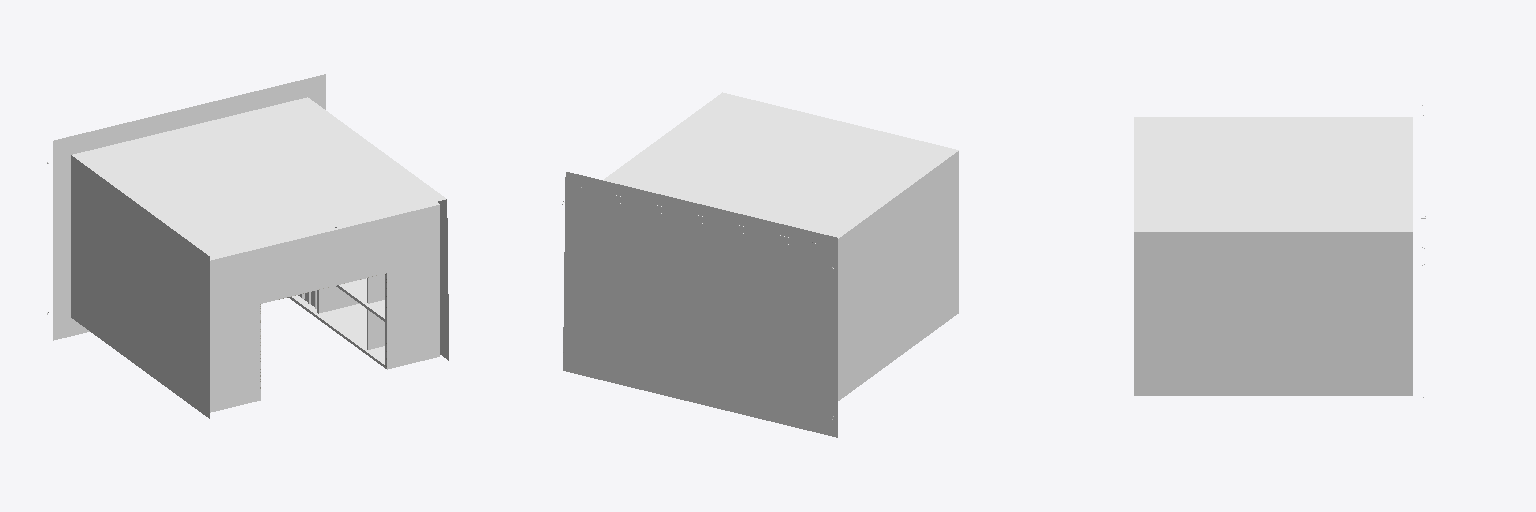
3 views of the same model, side by side, from view 1: azimuth 30°, elevation 25°; view 2: azimuth 150°, elevation 25°; view 3: azimuth 270°, elevation 25° (orthographic).
Parts seen in each view (by area): view 1: Object_316, Object_318, Object_167, Object_107, Object_319, Object_325, Object_166, Object_106, Object_208, Object_4, Object_303, Object_148 (+4 smaller); view 2: Object_315, Object_316, Object_318, Object_323, Object_319, Object_325, Object_321; view 3: Object_317, Object_316.
Part boxes in pixels (x1,y1,x2,y2): Object_316: (72, 97, 445, 256); Object_318: (71, 155, 209, 418); Object_167: (386, 203, 439, 320); Object_107: (210, 236, 305, 315); Object_319: (54, 74, 324, 154); Object_325: (53, 141, 70, 339); Object_166: (340, 216, 386, 283); Object_106: (210, 304, 259, 363); Object_208: (387, 311, 439, 366); Object_4: (210, 355, 259, 409); Object_303: (288, 295, 439, 369); Object_148: (307, 228, 338, 291); Object_315: (581, 194, 819, 414); Object_316: (603, 92, 958, 244); Object_318: (838, 151, 958, 400); Object_323: (563, 357, 837, 437); Object_319: (566, 172, 836, 251); Object_325: (820, 238, 837, 436); Object_321: (563, 173, 582, 369); Object_317: (1134, 232, 1412, 395); Object_316: (1134, 117, 1412, 231).
Bounding box in the file's own units: 3095 × 2134 × 2817.
Materials: 11 (1 with a texture image).